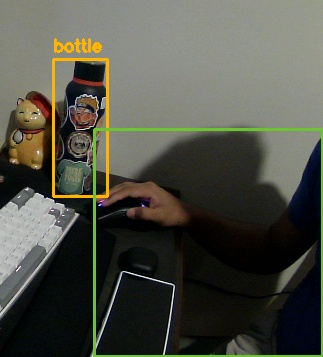bottle: (53, 59, 107, 196)
